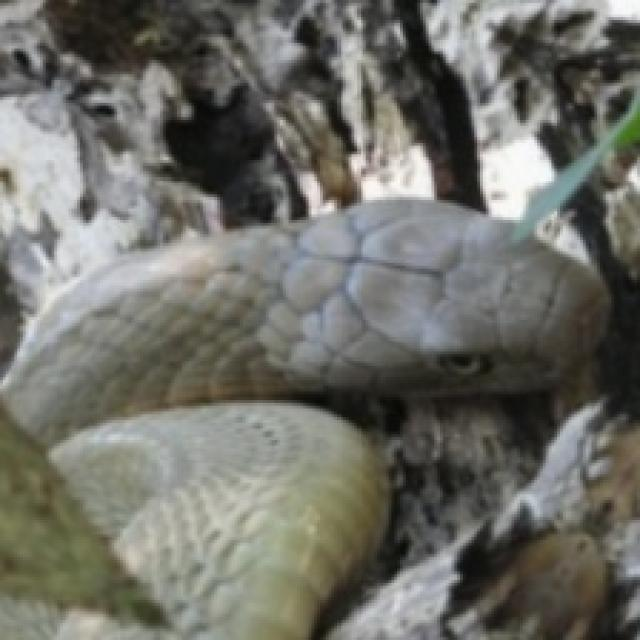king cobra: (3, 200, 606, 637)
